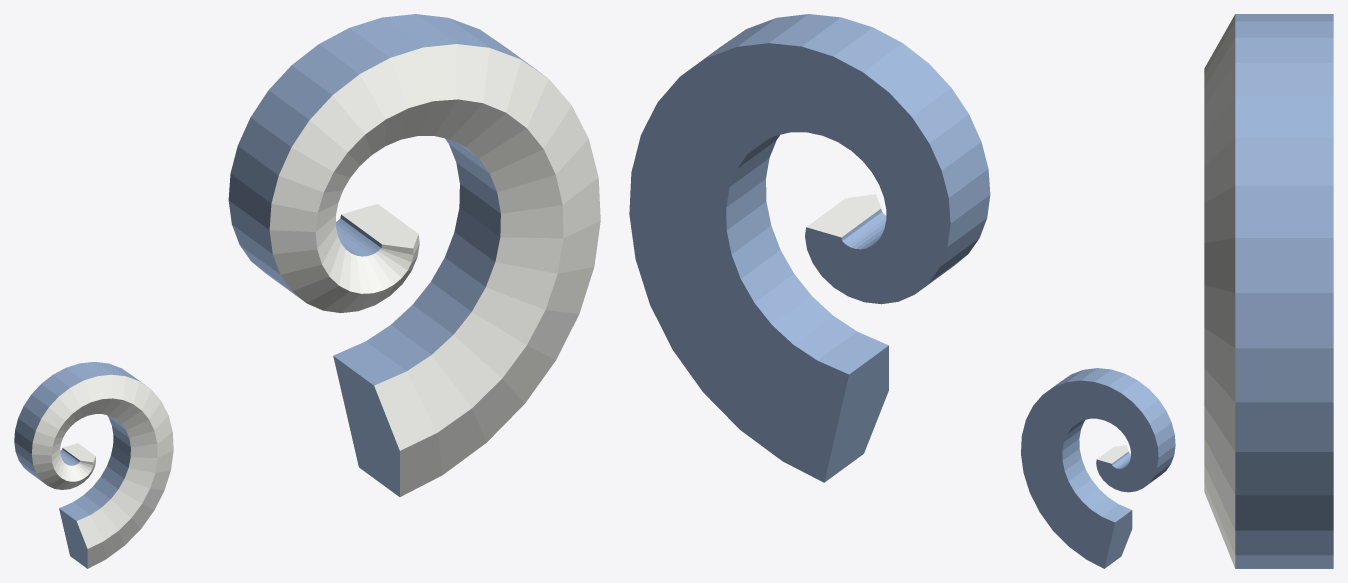
The picture shows the model from 3 angles, left to right: view 1: azimuth 30°, elevation 25°; view 2: azimuth 150°, elevation 25°; view 3: azimuth 270°, elevation 25°; orthographic projection. The views are drawn at different scales.
Visible parts, largest first — view 1: 正面独立立体纸卷.001; view 2: 正面独立立体纸卷.001; view 3: 正面独立立体纸卷.001.
Boxes of the visible parts, x1,y1,x2,y2 form: 正面独立立体纸卷.001: (14, 14, 600, 568); 正面独立立体纸卷.001: (629, 14, 1175, 568); 正面独立立体纸卷.001: (1204, 14, 1333, 568).
Size of the model in its own units: 1.32 by 1.07 by 0.2254.
